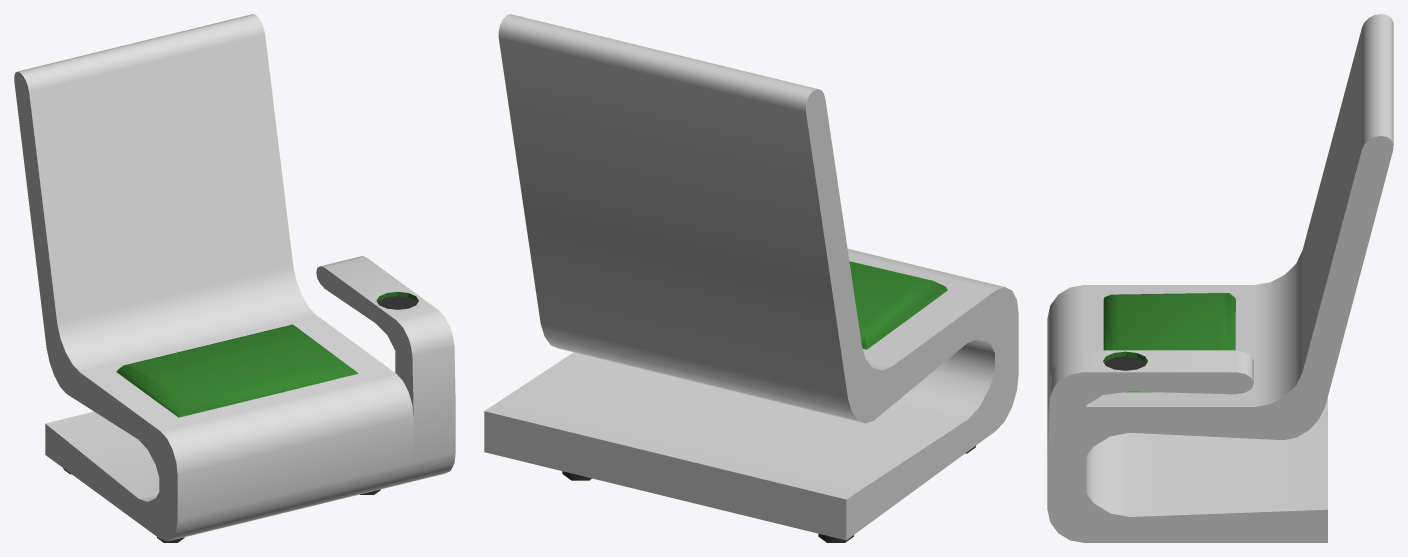
File: Chair Test.fbx
The picture shows the model from 3 angles, left to right: view 1: azimuth 30°, elevation 25°; view 2: azimuth 150°, elevation 25°; view 3: azimuth 270°, elevation 25°; orthographic projection. The views are drawn at different scales.
Visible parts, largest first — view 1: Chair B.002; view 2: Chair B.002; view 3: Chair B.002.
Boxes of the visible parts, x1,y1,x2,y2 form: Chair B.002: [14, 14, 455, 542]; Chair B.002: [484, 14, 1018, 542]; Chair B.002: [1047, 14, 1393, 542].
Size of the model in its own units: 0.6481 by 0.8335 by 0.6596.
